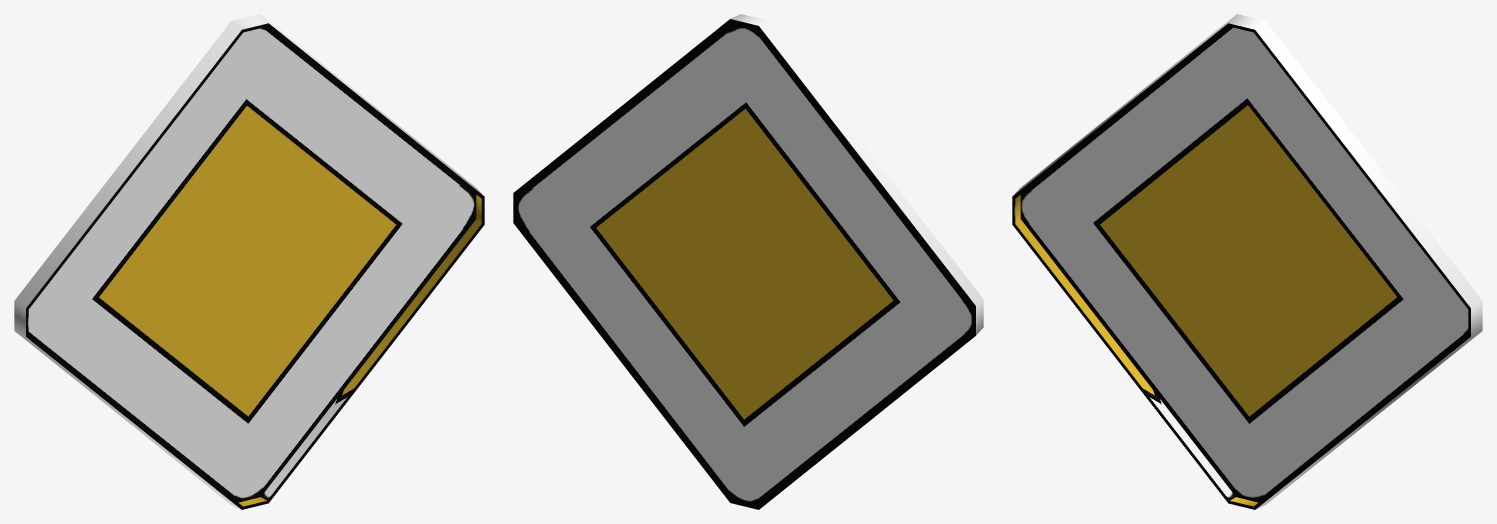
File: yippee.fbx
3 views of the same model, side by side, from view 1: azimuth 30°, elevation 25°; view 2: azimuth 150°, elevation 25°; view 3: azimuth 330°, elevation 25° (orthographic).
Parts seen in each view (by area): view 1: Priority_MainRoad_LOD0.001; view 2: Priority_MainRoad_LOD0.001; view 3: Priority_MainRoad_LOD0.001.
Part boxes in pixels (bbox=[...]): Priority_MainRoad_LOD0.001: bbox=[14, 14, 484, 509]; Priority_MainRoad_LOD0.001: bbox=[513, 14, 983, 509]; Priority_MainRoad_LOD0.001: bbox=[1012, 14, 1482, 509].
Bounding box in the file's own units: 66.57 × 66.57 × 2.42.
